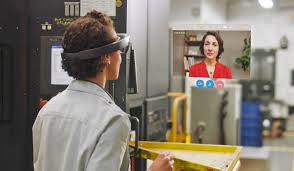hololens: (60, 32, 133, 63)
